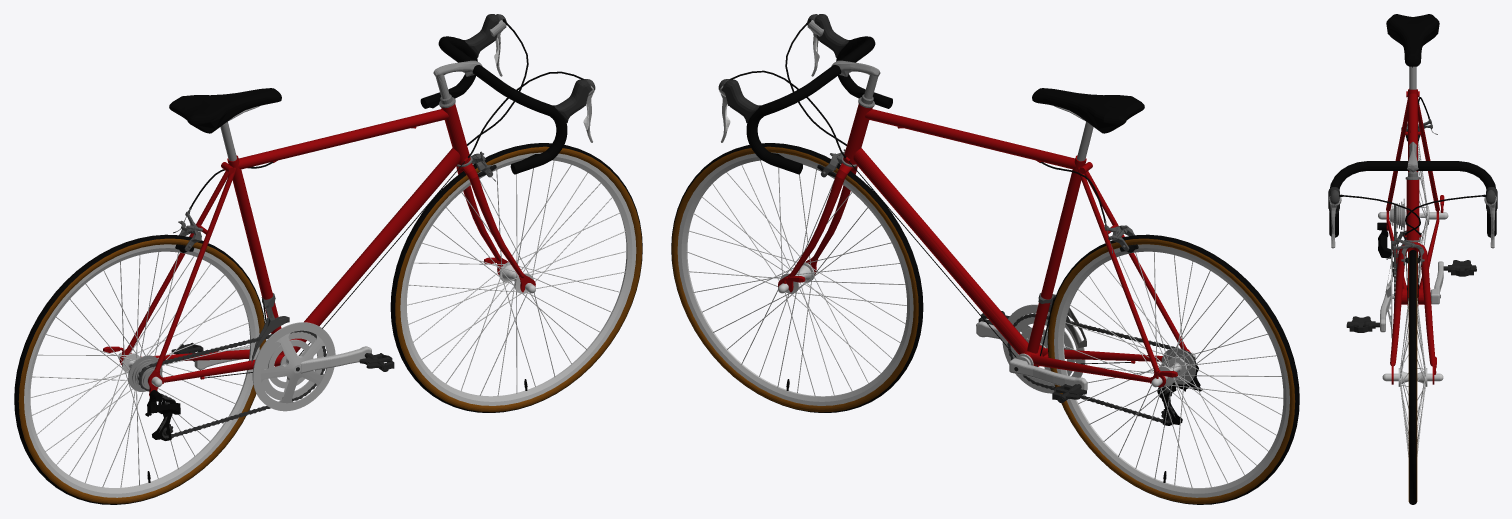
Rendered from bikeee.glb.
3 views of the same model, side by side, from view 1: azimuth 30°, elevation 25°; view 2: azimuth 150°, elevation 25°; view 3: azimuth 270°, elevation 25° (orthographic). The views are drawn at different scales.
Parts seen in each view (by area): view 1: RoataFata, RoataSpate, Cadru1, Pedale, PneuInteriorFata, PneuInteriorSpate, Ghidon, Cadru2, Sa, PneuExteriorSpate, PneuExteriorFata, Furca (+4 smaller); view 2: RoataFata, RoataSpate, Cadru1, PneuInteriorFata, PneuInteriorSpate, Ghidon, Pedale, Cadru2, Sa, PneuExteriorSpate, PneuExteriorFata, Furca (+2 smaller); view 3: Cadru1, PneuExteriorFata, Ghidon, Furca, Sa, RoataFata, PneuInteriorFata, Pedale, Cadru2, RoataSpate, DerailleurSpate, PedalaSt (+8 smaller).
Boxes of the visible parts, bbox=[...] form: RoataFata: bbox=[400, 152, 636, 405]; RoataSpate: bbox=[24, 244, 259, 497]; Cadru1: bbox=[119, 121, 401, 396]; Pedale: bbox=[194, 322, 371, 411]; PneuInteriorFata: bbox=[395, 146, 642, 412]; PneuInteriorSpate: bbox=[18, 238, 265, 503]; Ghidon: bbox=[420, 36, 567, 174]; Cadru2: bbox=[384, 103, 470, 230]; Sa: bbox=[169, 88, 281, 133]; PneuExteriorSpate: bbox=[14, 234, 266, 504]; PneuExteriorFata: bbox=[390, 143, 642, 412]; Furca: bbox=[456, 163, 535, 292]; RoataFata: bbox=[677, 152, 913, 405]; RoataSpate: bbox=[1054, 244, 1289, 497]; Cadru1: bbox=[912, 121, 1190, 387]; PneuInteriorFata: bbox=[671, 146, 918, 412]; PneuInteriorSpate: bbox=[1048, 238, 1295, 503]; Ghidon: bbox=[746, 36, 892, 174]; Pedale: bbox=[976, 304, 1087, 393]; Cadru2: bbox=[843, 103, 929, 230]; Sa: bbox=[1032, 88, 1144, 133]; PneuExteriorSpate: bbox=[1047, 234, 1299, 504]; PneuExteriorFata: bbox=[671, 143, 923, 412]; Furca: bbox=[778, 163, 857, 292]; Cadru1: bbox=[1386, 89, 1439, 305]; PneuExteriorFata: bbox=[1409, 250, 1416, 504]; Ghidon: bbox=[1329, 161, 1496, 237]; Furca: bbox=[1390, 242, 1435, 384]; Sa: bbox=[1386, 14, 1439, 67]; RoataFata: bbox=[1382, 298, 1443, 456]; PneuInteriorFata: bbox=[1408, 252, 1417, 502]; Pedale: bbox=[1380, 255, 1443, 338]; Cadru2: bbox=[1404, 171, 1421, 255]; RoataSpate: bbox=[1378, 141, 1448, 284]; DerailleurSpate: bbox=[1377, 222, 1397, 281]; PedalaSt: bbox=[1443, 260, 1476, 276].
Bounding box in the file's own units: 1.68 × 0.9756 × 0.4439.
